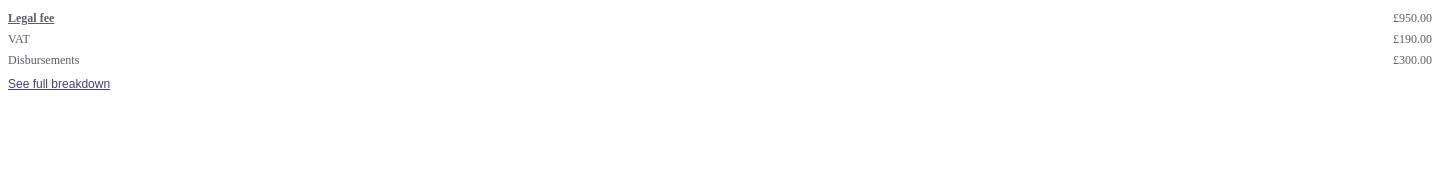
Test: FeeBreakdown › expands to show itemised lines, including an "(estimated)" marker, when toggled
Click the button "See full breakdown". click: (59, 81)
box: [8,71,110,91]
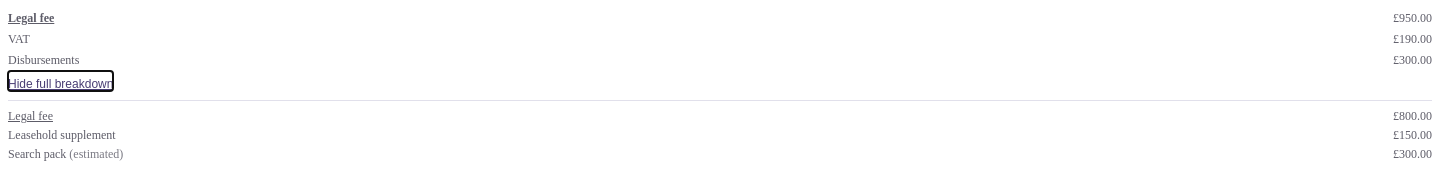
expect the text "Leasehold supplement" is shown: met, box [8,128,116,143]
expect the text "Search pack (estimated)" is shown: met, box [8,147,123,162]
expect the text "(estimated)" is shown: met, box [66,147,123,161]
